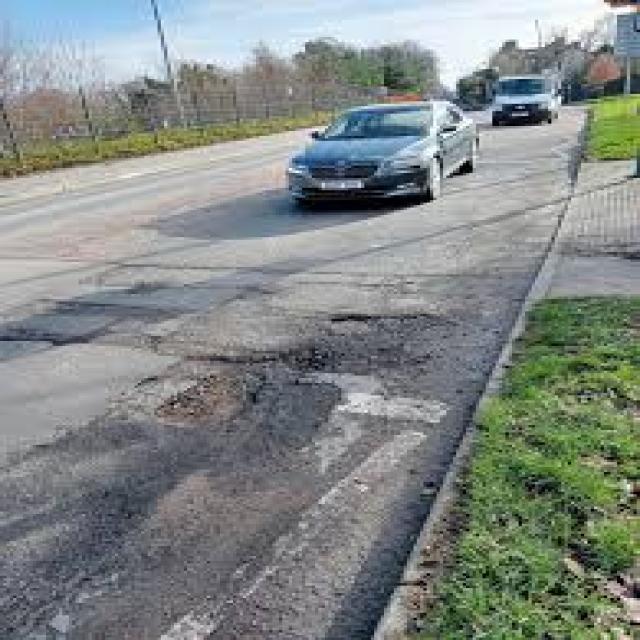Pothole: (154, 343, 331, 430), (335, 316, 381, 329)
